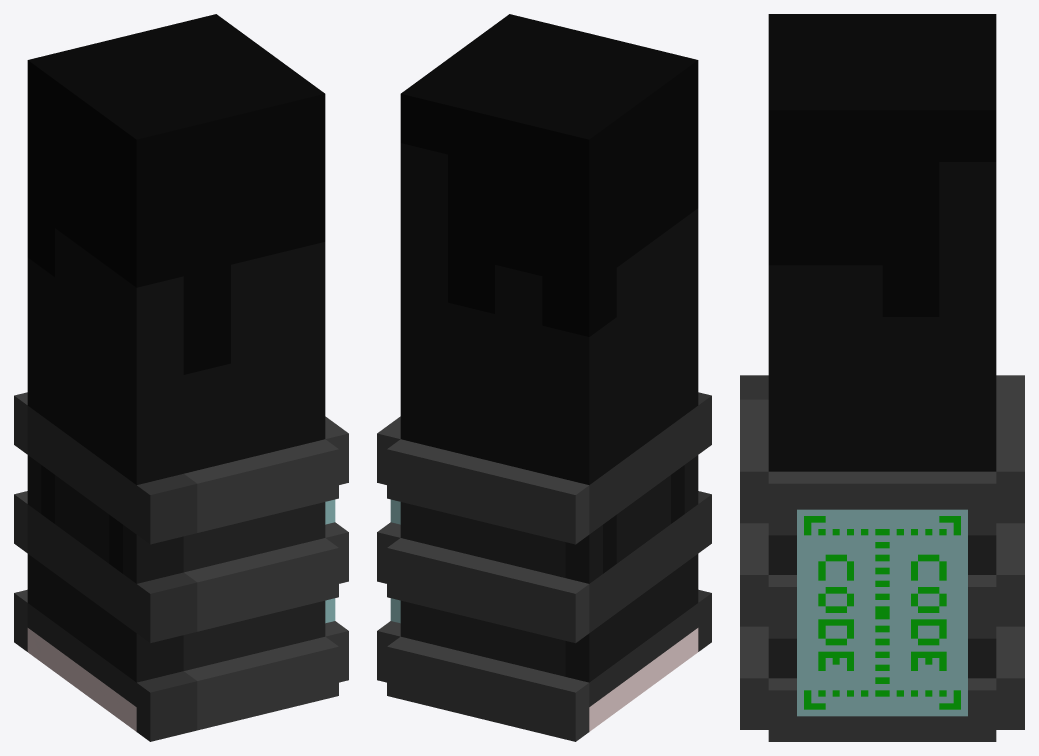
File: leftArm.obj
The picture shows the model from 3 angles, left to right: view 1: azimuth 30°, elevation 25°; view 2: azimuth 150°, elevation 25°; view 3: azimuth 270°, elevation 25°; orthographic projection. The views are drawn at different scales.
Bounding box in the file's own units: 3.6 × 9.6 × 4.
Materials: 1 (1 with a texture image).
